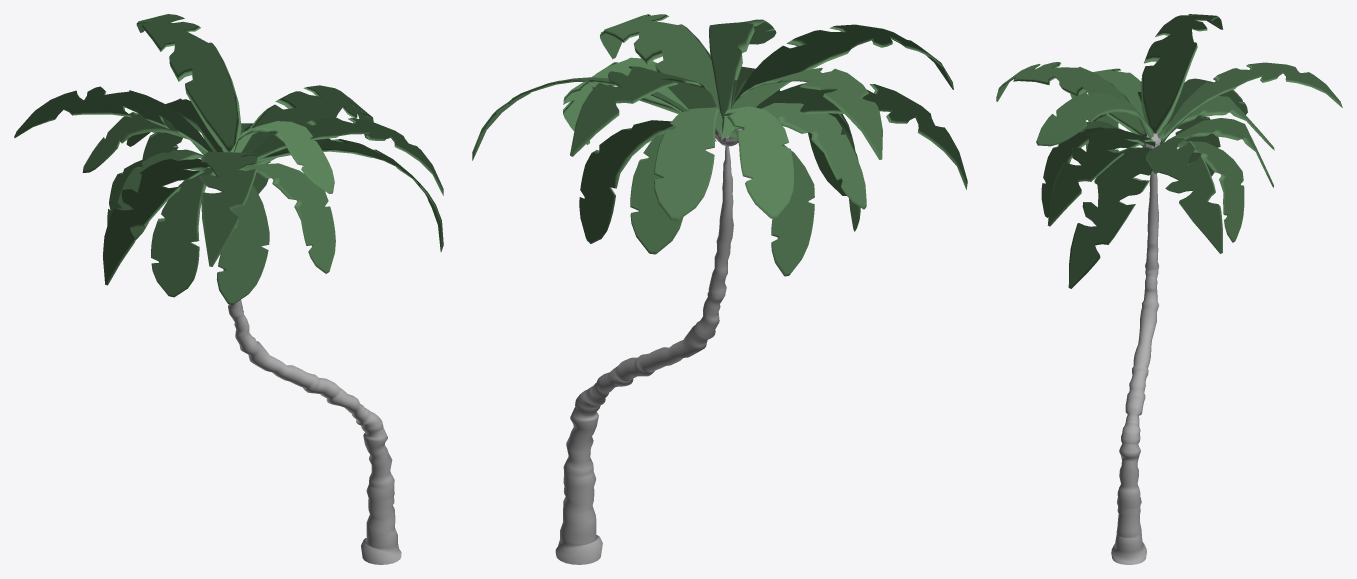
The model's file is palm_tree_05_3_5_uv_export.fbx.
3 renders of one model, left to right at view 1: azimuth 30°, elevation 25°; view 2: azimuth 150°, elevation 25°; view 3: azimuth 270°, elevation 25°, orthographic. The views are drawn at different scales.
Parts seen in each view (by area): view 1: Palm_tree_05_3_5_uv_export; view 2: Palm_tree_05_3_5_uv_export; view 3: Palm_tree_05_3_5_uv_export.
Part boxes in pixels (x1=…): Palm_tree_05_3_5_uv_export: x1=14, y1=14, x2=443, y2=564; Palm_tree_05_3_5_uv_export: x1=472, y1=14, x2=967, y2=564; Palm_tree_05_3_5_uv_export: x1=996, y1=14, x2=1342, y2=564.
Bounding box in the file's own units: 22.09 × 29.86 × 21.61.
